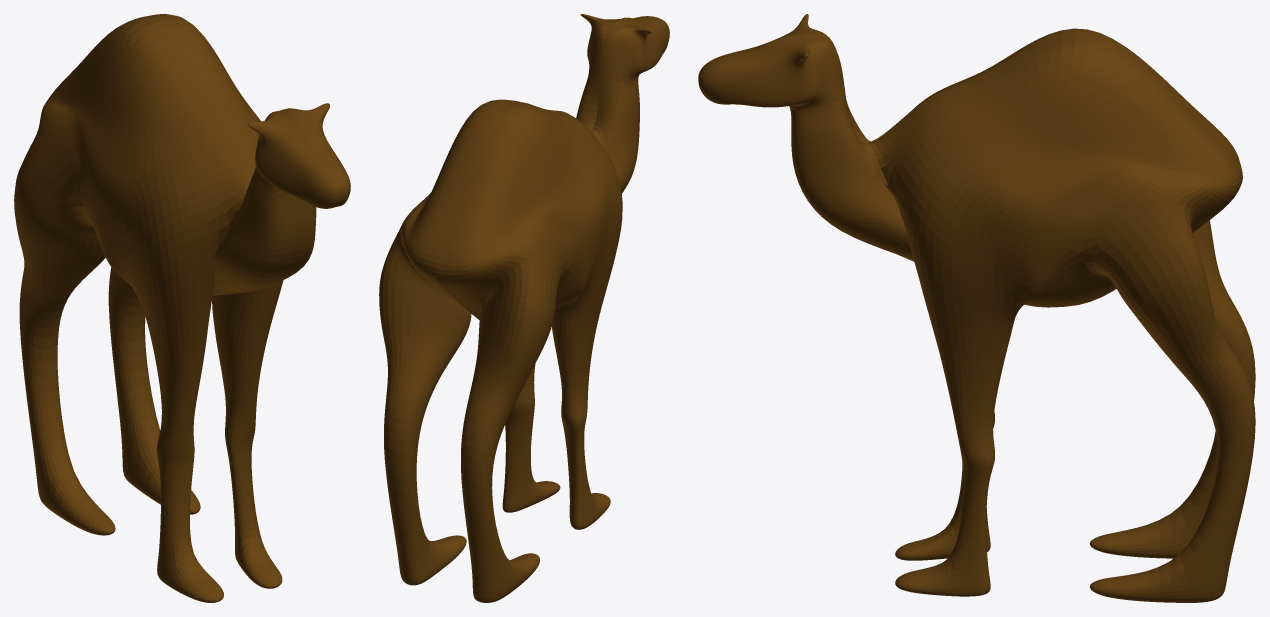
Rendered from camel.fbx.
The picture shows the model from 3 angles, left to right: view 1: azimuth 30°, elevation 25°; view 2: azimuth 150°, elevation 25°; view 3: azimuth 270°, elevation 25°; orthographic projection. The views are drawn at different scales.
Parts seen in each view (by area): view 1: Cube; view 2: Cube; view 3: Cube.
Part boxes in pixels (<box>): Cube: <box>14,14,350,602</box>; Cube: <box>379,14,669,602</box>; Cube: <box>698,14,1255,602</box>.
Size of the model in its own units: 95.76 by 255 by 237.
